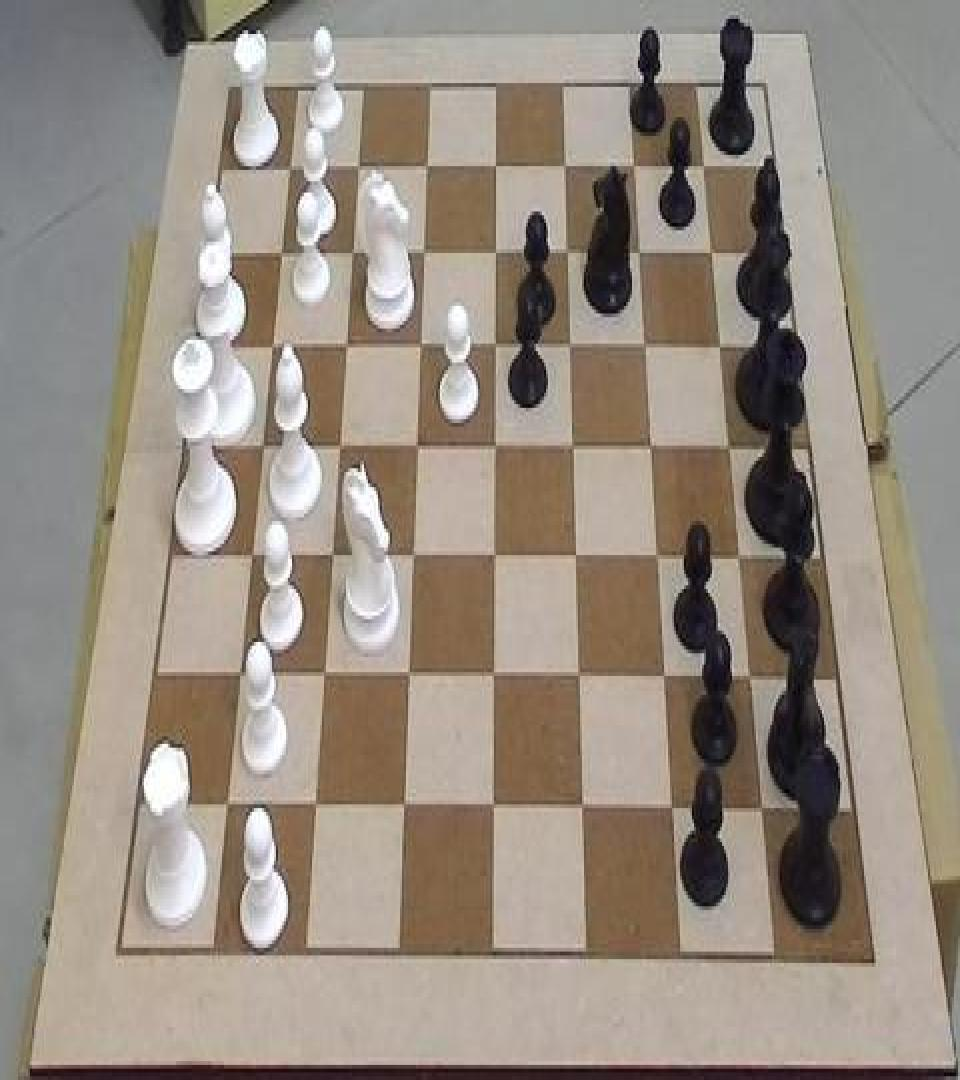xcorner: (695, 147, 715, 185), (625, 147, 645, 185), (555, 149, 575, 187), (486, 149, 506, 187), (416, 149, 436, 187), (347, 149, 367, 187), (278, 149, 298, 187), (703, 234, 723, 272), (630, 234, 650, 272), (558, 234, 578, 272), (485, 234, 505, 272), (413, 234, 433, 272), (341, 234, 361, 272), (269, 236, 289, 274), (711, 326, 731, 364), (636, 326, 656, 364), (560, 326, 580, 364), (485, 328, 505, 366), (410, 328, 430, 366), (335, 328, 355, 366), (260, 328, 280, 366), (720, 428, 740, 466), (641, 428, 661, 466), (563, 428, 583, 466), (484, 428, 504, 466), (406, 428, 426, 466), (328, 428, 348, 466), (250, 428, 270, 466), (730, 538, 750, 576), (648, 538, 668, 576), (566, 538, 586, 576), (484, 538, 504, 576), (402, 538, 422, 576), (321, 538, 341, 576), (240, 538, 260, 576), (741, 659, 761, 697), (655, 659, 675, 697), (569, 659, 589, 697), (483, 657, 503, 695), (398, 657, 418, 695), (313, 657, 333, 695), (228, 657, 248, 695), (753, 791, 773, 829), (662, 789, 682, 827), (572, 789, 592, 827), (483, 789, 503, 827), (393, 789, 413, 827), (304, 787, 324, 825), (215, 787, 235, 825)
